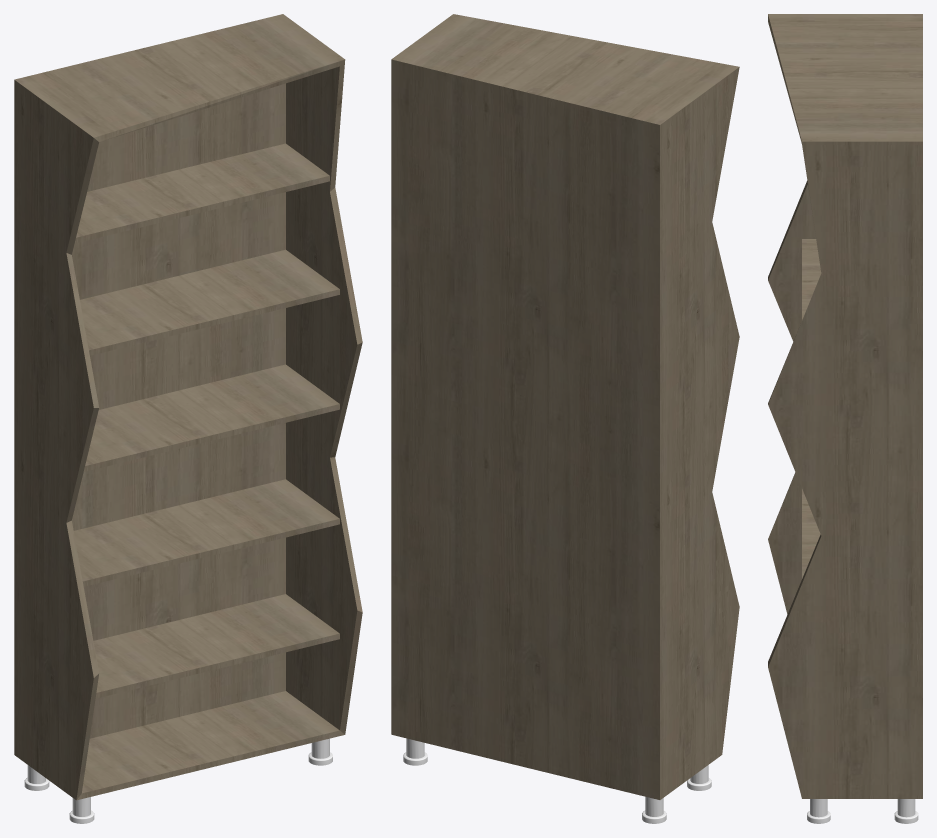
3 views of the same model, side by side, from view 1: azimuth 30°, elevation 25°; view 2: azimuth 150°, elevation 25°; view 3: azimuth 270°, elevation 25° (orthographic). The views are drawn at different scales.
Visible parts, largest first — view 1: Box001, Box017, Box019, Box018, Box016, Box020; view 2: Box001; view 3: Box001, Box019, Box017, Cylinder004, Cylinder005.
Boxes of the visible parts, <box> form: Box001: <box>14,14,362,800</box>; Box017: <box>73,479,339,586</box>; Box019: <box>80,249,339,355</box>; Box018: <box>83,364,339,471</box>; Box016: <box>93,594,339,698</box>; Box020: <box>74,143,329,243</box>; Box001: <box>391,14,739,799</box>; Box001: <box>768,14,922,798</box>; Box019: <box>802,239,821,320</box>; Box017: <box>802,489,820,578</box>; Cylinder004: <box>894,799,918,823</box>; Cylinder005: <box>807,799,830,823</box>.
Size of the model in its own units: 1 by 2.5 by 0.5126.
2 materials, 1 textured.
